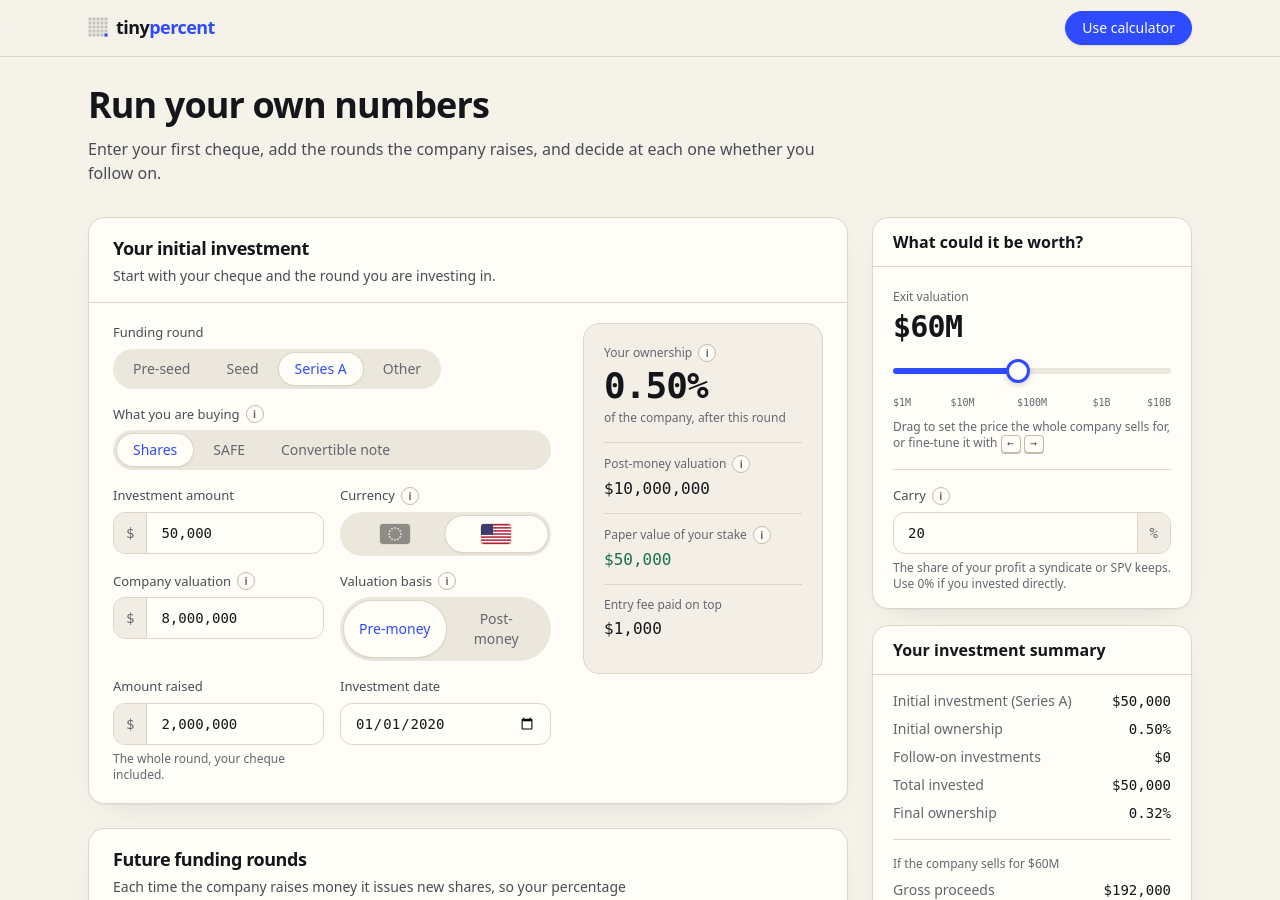
Scenario: the fields follow the instrument › asks for a cap and a discount for a SAFE, and no interest
(page scrolled)
Step 1. Click the radio button labelled "SAFE" → (229, 450), box left=197, top=434, right=261, bottom=466
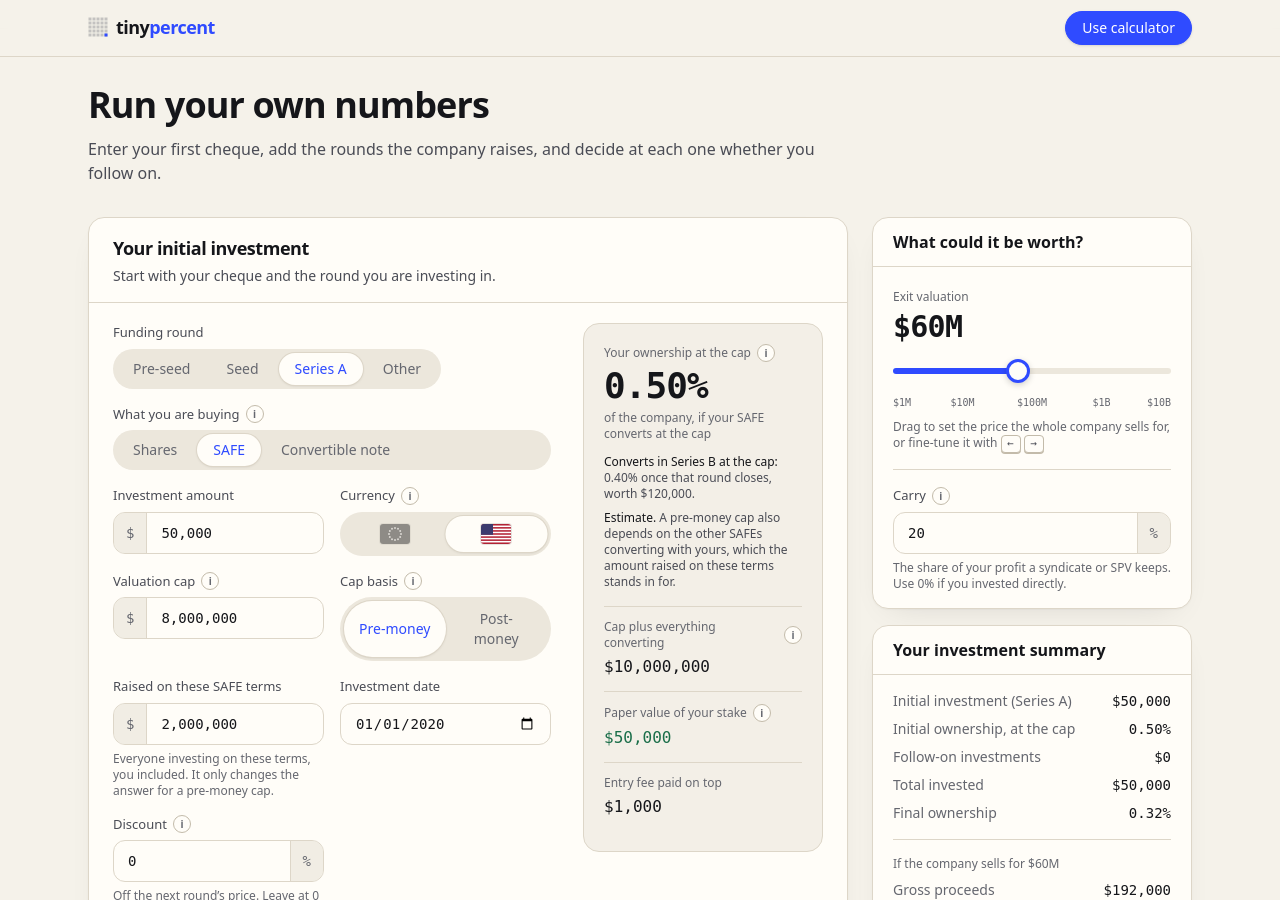
Expected: the field labelled "Valuation cap" is shown, left=147, top=598, right=323, bottom=638
Now the field labelled "Discount" is shown, box left=114, top=841, right=290, bottom=881
